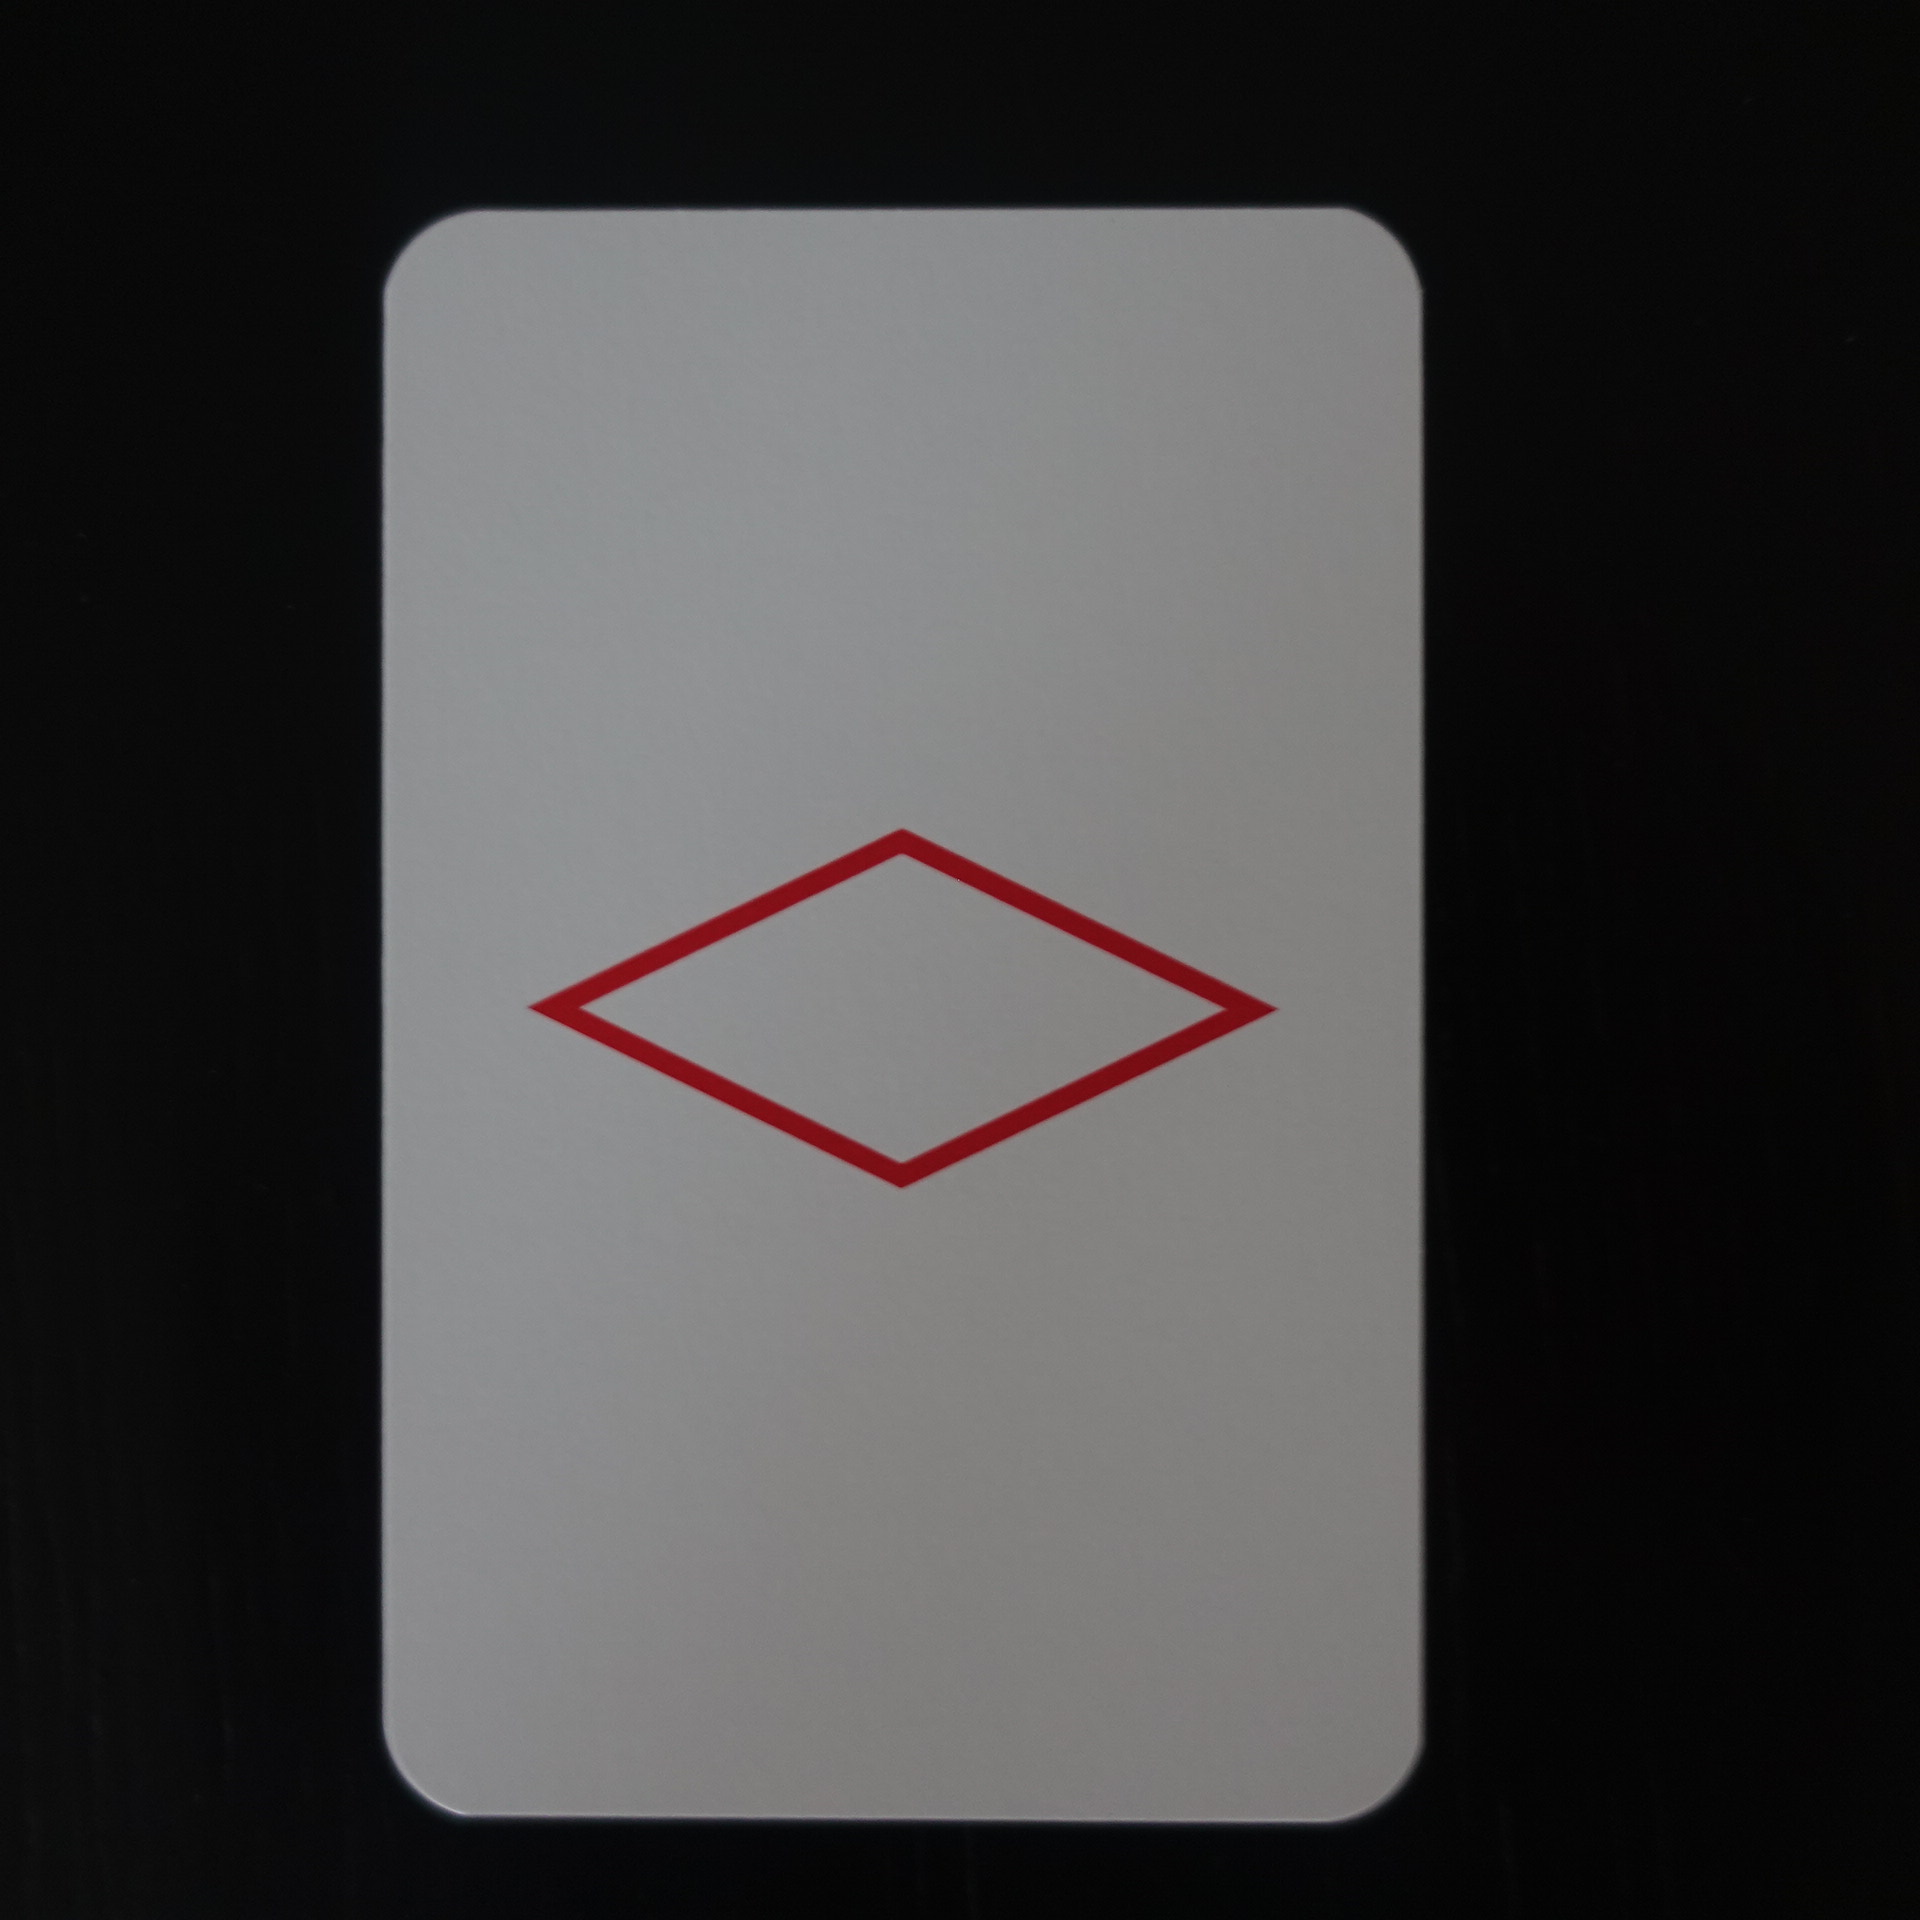c-2-f-d-r: (345, 183, 1451, 1851)
